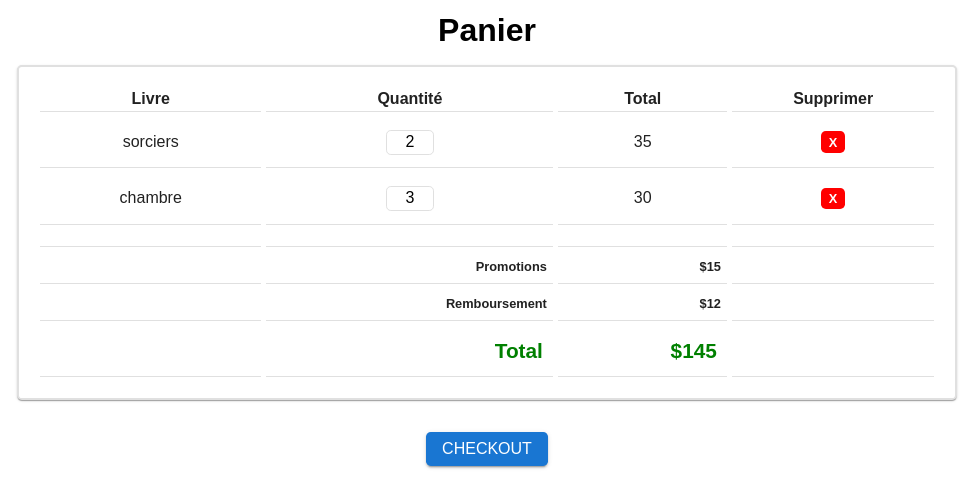
Scenario: Cart Component › Should clear items after checkout
Expected: the text "$145" is shown, [558,326,727,378]
Expected: the number of rows with test id "row" is 2, [40,117,934,168]; [40,173,934,225]
Click the button "Checkout" at [487, 450], box [426,432,548,466]
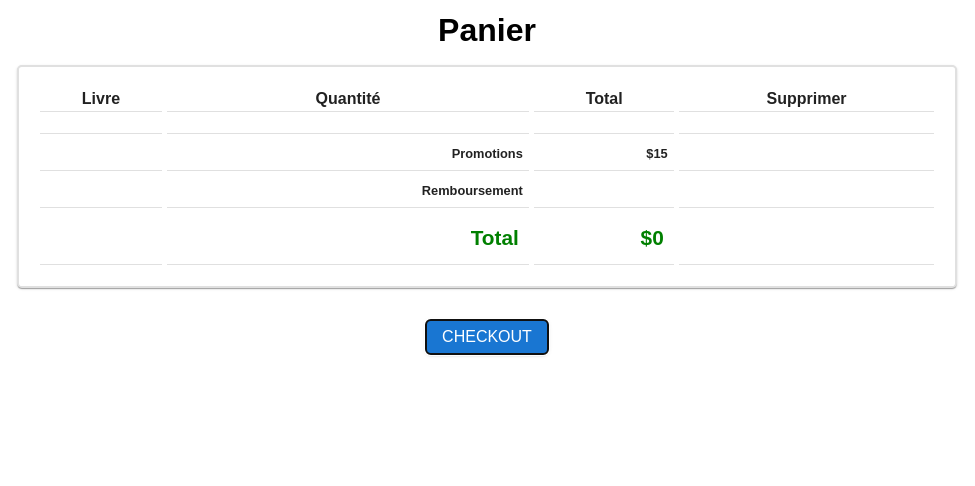
Expected: the text "$0" is shown, [534,213,674,264]
Expected: no rows with test id "row" are shown
